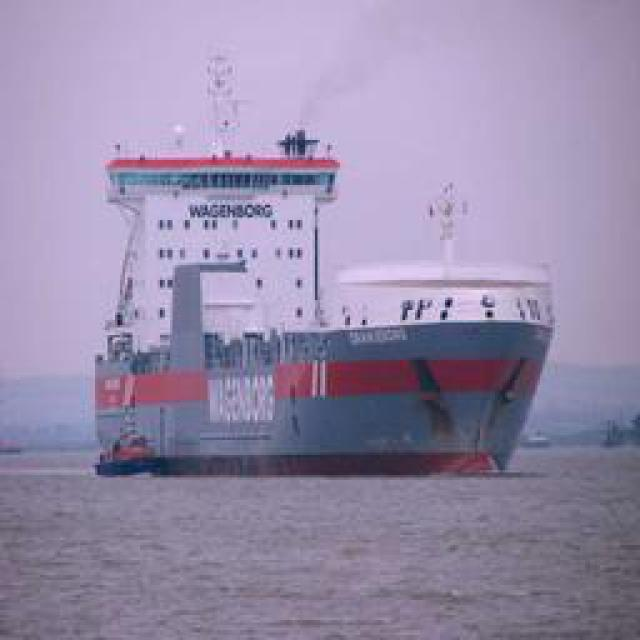Ship: (80, 118, 560, 473)
